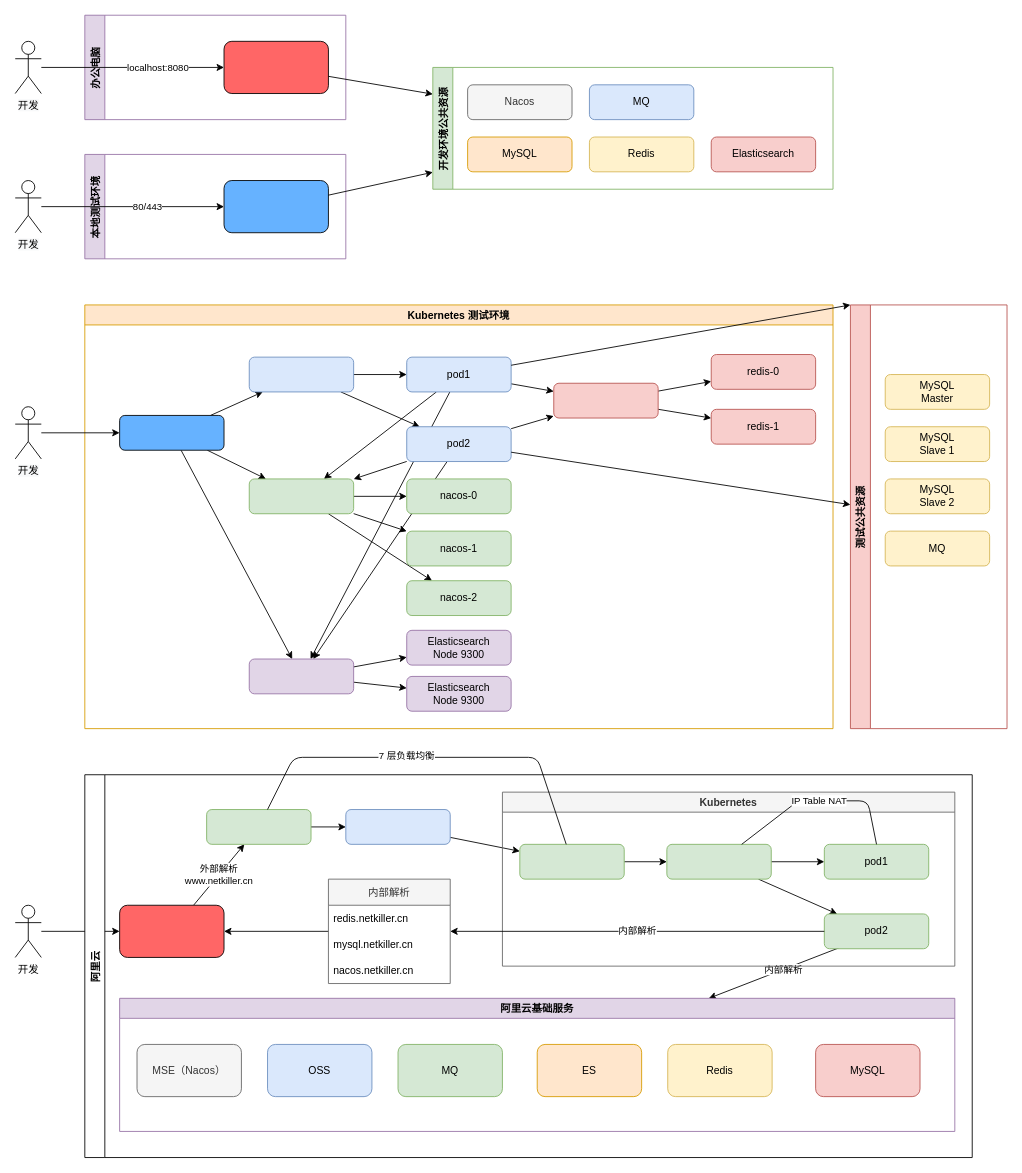
Some shapes in this 1022 by 1173 pixel diagram are drawn without their labels. Here are the shapes that lost their labels. From the top down, the centre of each, then its label:
At (x=275, y=67): "window/mac 电脑".
At (x=275, y=206): "Docker".
At (x=301, y=374): "Service 80".
At (x=605, y=400): "Redis Service 6379".
At (x=171, y=432): "ingress 80/443".
At (x=301, y=496): "Nacos Service 8848".
At (x=301, y=676): "Elasticsearch Service 9200".
At (x=258, y=826): "WAF".
At (x=397, y=826): "SLB + SSL 公网".
At (x=571, y=861): "ingress".
At (x=718, y=861): "Service".
At (x=171, y=930): "DNS".
